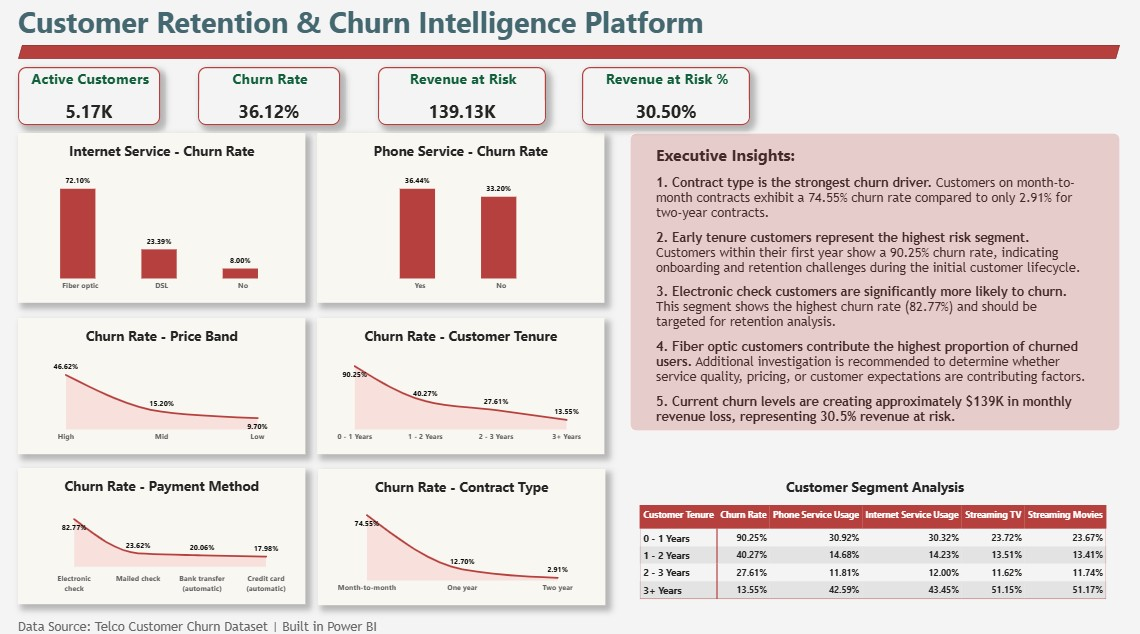

The dashboard page shown, as its layout file describes it:
{"tool":"powerbi","page":{"name":"Churn Analysis","canvas":[1920,1080],"ordinal":0},"visuals":[{"type":"textbox","box":[40,15,1836.7,61.7],"z":0},{"type":"shape","box":[40,86.7,1836.7,23.3],"z":1000},{"type":"cardVisual","title":"Active Customers","fields":{"Data":["WA_Fn-UseC_-Telco-Customer-Churn.Active Customers"]},"box":[40,122.6,236.7,96.7],"z":2000},{"type":"cardVisual","title":"Churn Rate","fields":{"Data":["WA_Fn-UseC_-Telco-Customer-Churn.Churn Rate"]},"box":[340,122.6,236.7,96.7],"z":3000},{"type":"areaChart","title":"Churn Rate - Customer Tenure","fields":{"Category":["WA_Fn-UseC_-Telco-Customer-Churn.Customer Tenure"],"Y":["WA_Fn-UseC_-Telco-Customer-Churn.Churn Rate"]},"box":[538.6,542.4,479.1,226.8],"z":4000},{"type":"areaChart","title":"Churn Rate - Price Band","fields":{"Category":["WA_Fn-UseC_-Telco-Customer-Churn.Charge Band"],"Y":["WA_Fn-UseC_-Telco-Customer-Churn.Churn Rate"]},"box":[39.7,542.4,479.1,226.8],"z":5000},{"type":"cardVisual","title":"Revenue Loss","fields":{"Data":["WA_Fn-UseC_-Telco-Customer-Churn.Revenue Loss"]},"box":[640,122.6,280,96.7],"z":6000},{"type":"clusteredColumnChart","title":"Phone Service - Churn Rate","fields":{"Category":["WA_Fn-UseC_-Telco-Customer-Churn.PhoneService"],"Y":["WA_Fn-UseC_-Telco-Customer-Churn.Churn Rate"]},"box":[538.6,233.4,479.1,283.5],"z":7000},{"type":"clusteredColumnChart","title":"Internet Service - Churn Rate","fields":{"Category":["WA_Fn-UseC_-Telco-Customer-Churn.InternetService"],"Y":["WA_Fn-UseC_-Telco-Customer-Churn.Churn Rate"]},"box":[39.7,233.4,479.1,283.5],"z":8000},{"type":"cardVisual","title":"Revenue Loss %","fields":{"Data":["WA_Fn-UseC_-Telco-Customer-Churn.Revenue at Risk %"]},"box":[980,122.6,280,96.7],"z":9000},{"type":"areaChart","title":"Churn Rate - Payment Method","fields":{"Category":["WA_Fn-UseC_-Telco-Customer-Churn.PaymentMethod"],"Y":["WA_Fn-UseC_-Telco-Customer-Churn.Churn Rate"]},"box":[39.7,791.8,479.1,226.8],"z":10000},{"type":"areaChart","title":"Churn Rate - Contract Type","fields":{"Category":["WA_Fn-UseC_-Telco-Customer-Churn.Contract"],"Y":["WA_Fn-UseC_-Telco-Customer-Churn.Churn Rate"]},"box":[540,792.6,479.1,226.8],"z":11000},{"type":"pivotTable","title":"Customer Segment Analysis","fields":{"Rows":["WA_Fn-UseC_-Telco-Customer-Churn.Customer Tenure"],"Values":["WA_Fn-UseC_-Telco-Customer-Churn.Churn Rate","WA_Fn-UseC_-Telco-Customer-Churn.Phone Service Usage","WA_Fn-UseC_-Telco-Customer-Churn.Internet Service Usage","WA_Fn-UseC_-Telco-Customer-Churn.Streaming TV","WA_Fn-UseC_-Telco-Customer-Churn.Streaming Movies"]},"box":[1060,792.6,816.7,238.3],"z":12000},{"type":"shape","box":[1060.2,232.4,817.5,535],"z":14000},{"type":"textbox","box":[40,1043.3,1880,36.7],"z":14001},{"type":"textbox","box":[1088.5,246.6,754,521.6],"z":14002}]}

Visuals, with their boxes in screenshot pixels (x1, y1, x2, y2), scaled from the page's 1920x1080 canvas onto the 1140x634 screenshot:
textbox: box=[24, 9, 1114, 45]
shape: box=[24, 51, 1114, 65]
"Active Customers" cardVisual: box=[24, 72, 164, 129]
"Churn Rate" cardVisual: box=[202, 72, 342, 129]
"Churn Rate - Customer Tenure" areaChart: box=[320, 318, 604, 452]
"Churn Rate - Price Band" areaChart: box=[24, 318, 308, 452]
"Revenue Loss" cardVisual: box=[380, 72, 546, 129]
"Phone Service - Churn Rate" clusteredColumnChart: box=[320, 137, 604, 303]
"Internet Service - Churn Rate" clusteredColumnChart: box=[24, 137, 308, 303]
"Revenue Loss %" cardVisual: box=[582, 72, 748, 129]
"Churn Rate - Payment Method" areaChart: box=[24, 465, 308, 598]
"Churn Rate - Contract Type" areaChart: box=[321, 465, 605, 598]
"Customer Segment Analysis" pivotTable: box=[629, 465, 1114, 605]
shape: box=[629, 136, 1115, 450]
textbox: box=[24, 612, 1139, 633]
textbox: box=[646, 145, 1094, 451]
